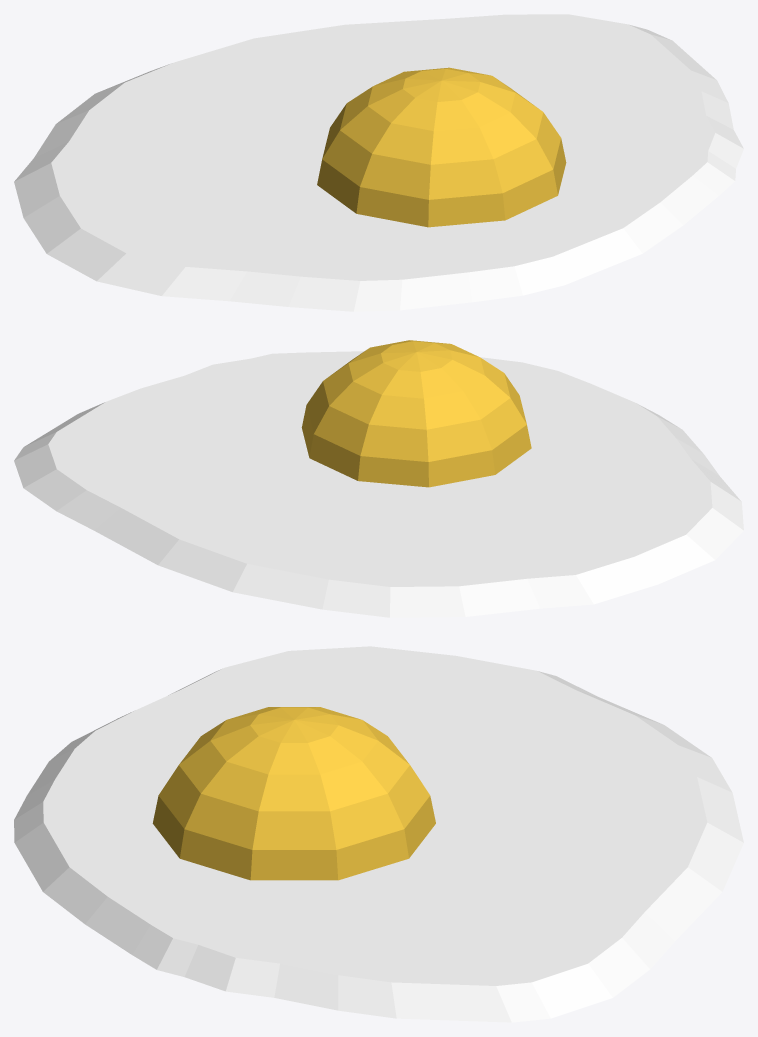
File: egg-cooked.fbx
3 renders of one model, top to bottom at view 1: azimuth 30°, elevation 25°; view 2: azimuth 150°, elevation 25°; view 3: azimuth 270°, elevation 25°, orthographic. The views are drawn at different scales.
Visible parts, largest first — view 1: Plane, Sphere; view 2: Plane, Sphere; view 3: Plane, Sphere.
Boxes of the visible parts, box(x1,y1,x2,y2) form: Plane: box(14, 14, 743, 311); Sphere: box(317, 67, 566, 227); Plane: box(14, 351, 743, 617); Sphere: box(301, 340, 531, 487); Plane: box(14, 646, 743, 1022); Sphere: box(152, 707, 435, 880).
Size of the model in its own units: 129 by 20.04 by 107.
Materials: 2 (2 with a texture image).
